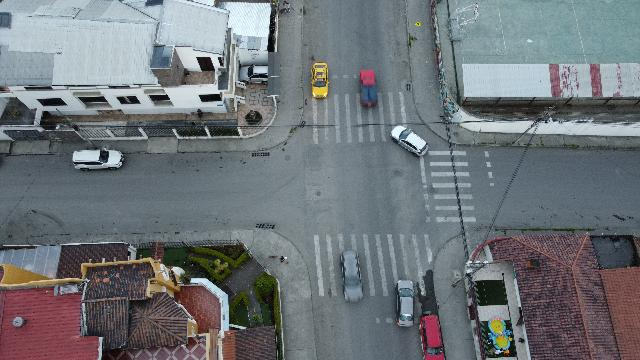Vehiculo: (418, 312, 446, 360), (341, 250, 363, 302), (390, 126, 428, 156), (73, 150, 124, 170), (396, 280, 414, 326), (360, 69, 378, 106), (311, 62, 329, 98), (238, 65, 268, 85)
